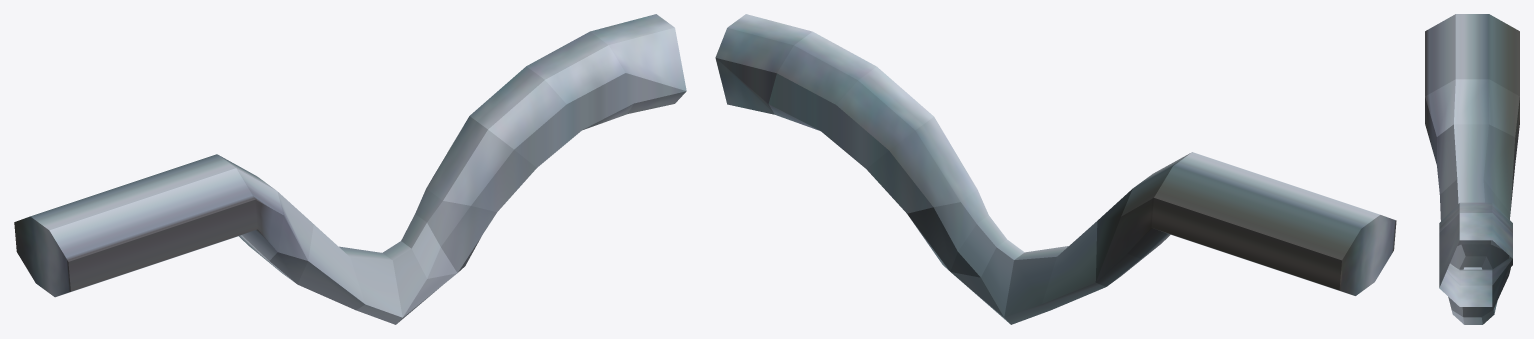
Rendered from Blender_LowPolyShortStreetlamp.fbx.
The picture shows the model from 3 angles, left to right: view 1: azimuth 30°, elevation 25°; view 2: azimuth 150°, elevation 25°; view 3: azimuth 270°, elevation 25°; orthographic projection. The views are drawn at different scales.
Parts seen in each view (by area): view 1: ShortLamp; view 2: ShortLamp; view 3: ShortLamp.
Boxes of the visible parts, left/top/right/bottom form: ShortLamp: left=14, top=14, right=686, bottom=324; ShortLamp: left=715, top=14, right=1396, bottom=324; ShortLamp: left=1425, top=14, right=1519, bottom=324.
Size of the model in its own units: 221 by 77.84 by 33.
1 material, 1 textured.
